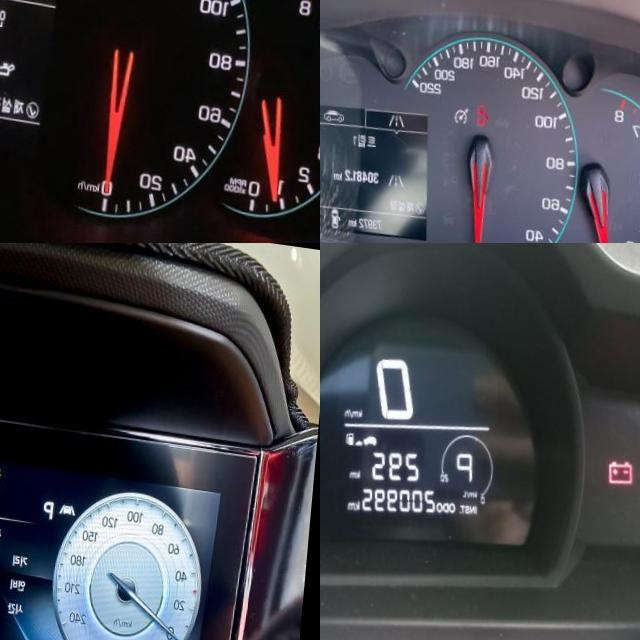Doors: (482, 93, 497, 117)
SideLamp: (0, 454, 7, 472)
